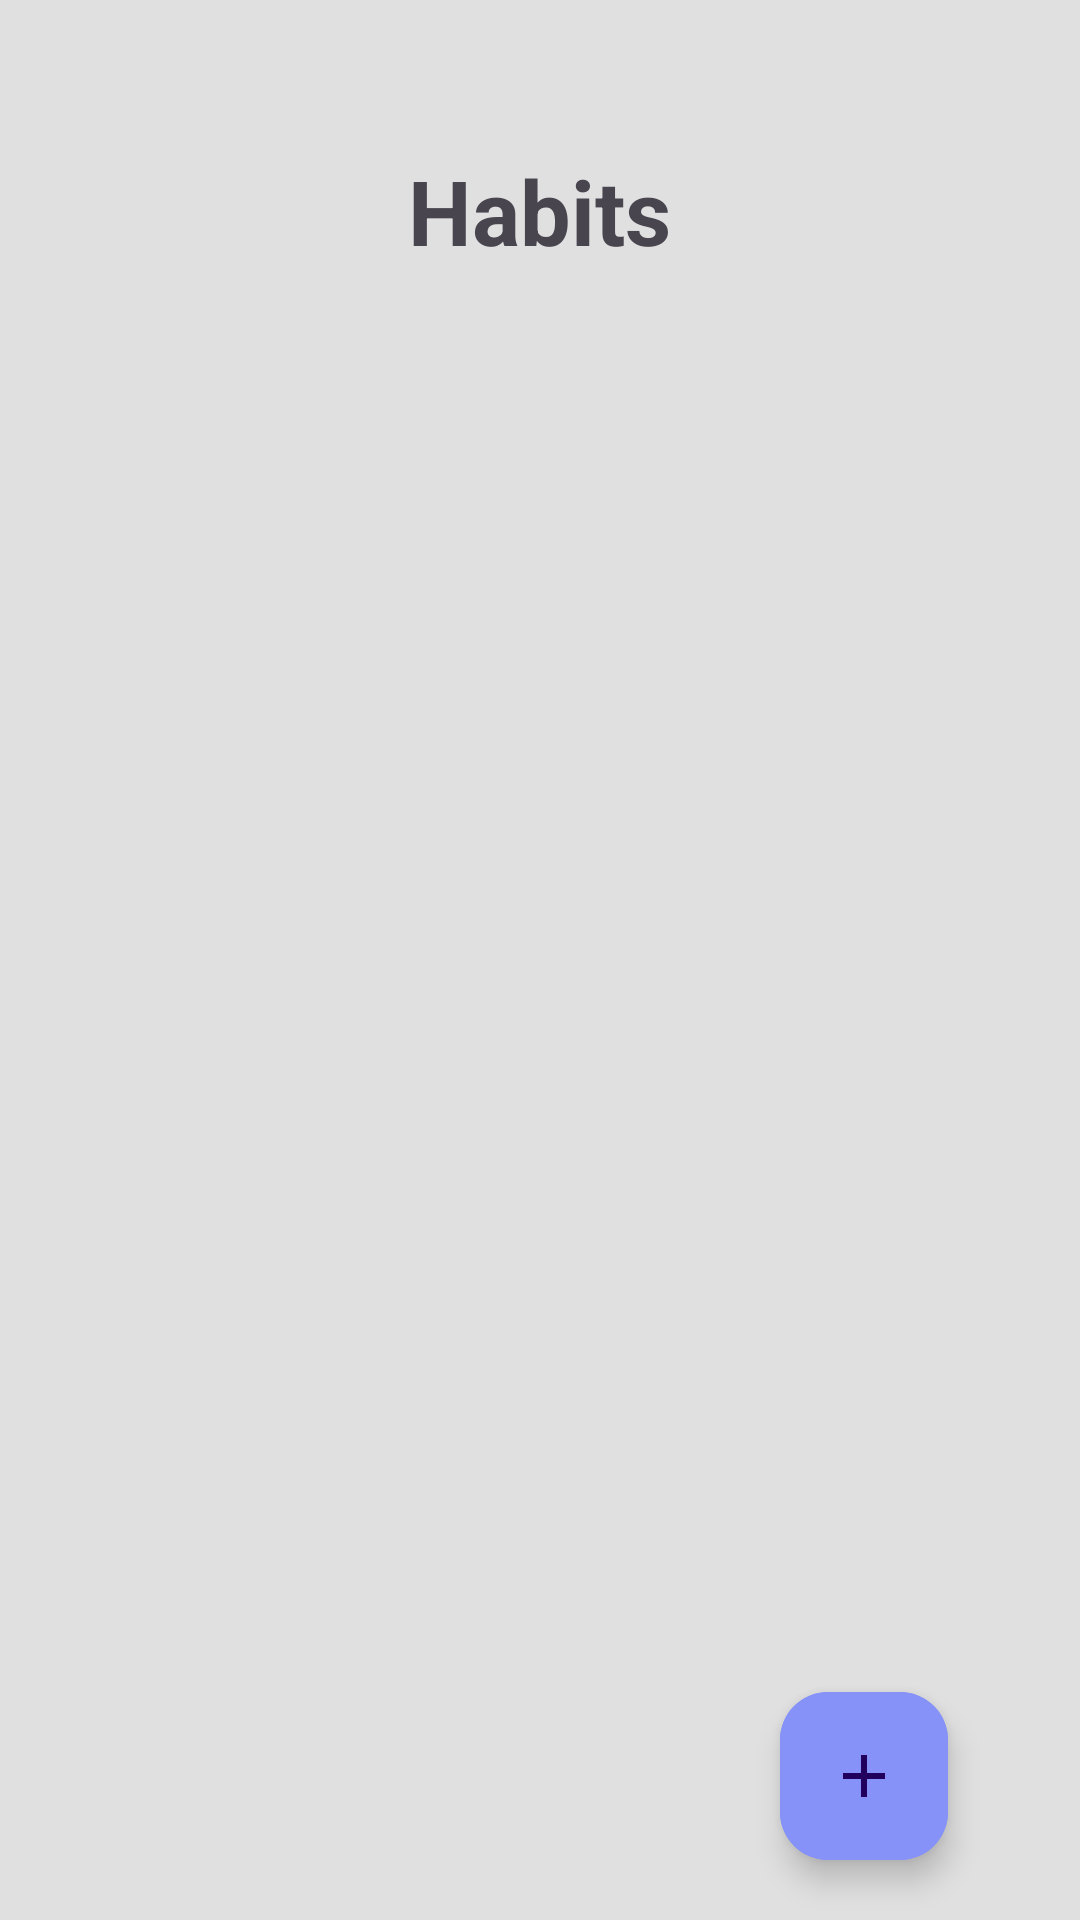

Icons on this 1080×1920 Android screen, each with its box as (x1, y1, x2, y2):
add cross: (780, 1692, 948, 1860)
